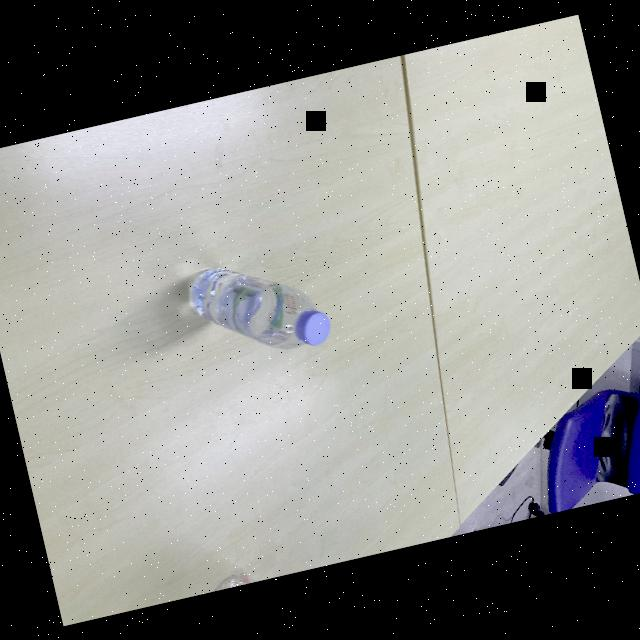plastic_bottle: (178, 242, 336, 372), (212, 570, 257, 590)
plastic_bottle_cap: (296, 308, 334, 348)
